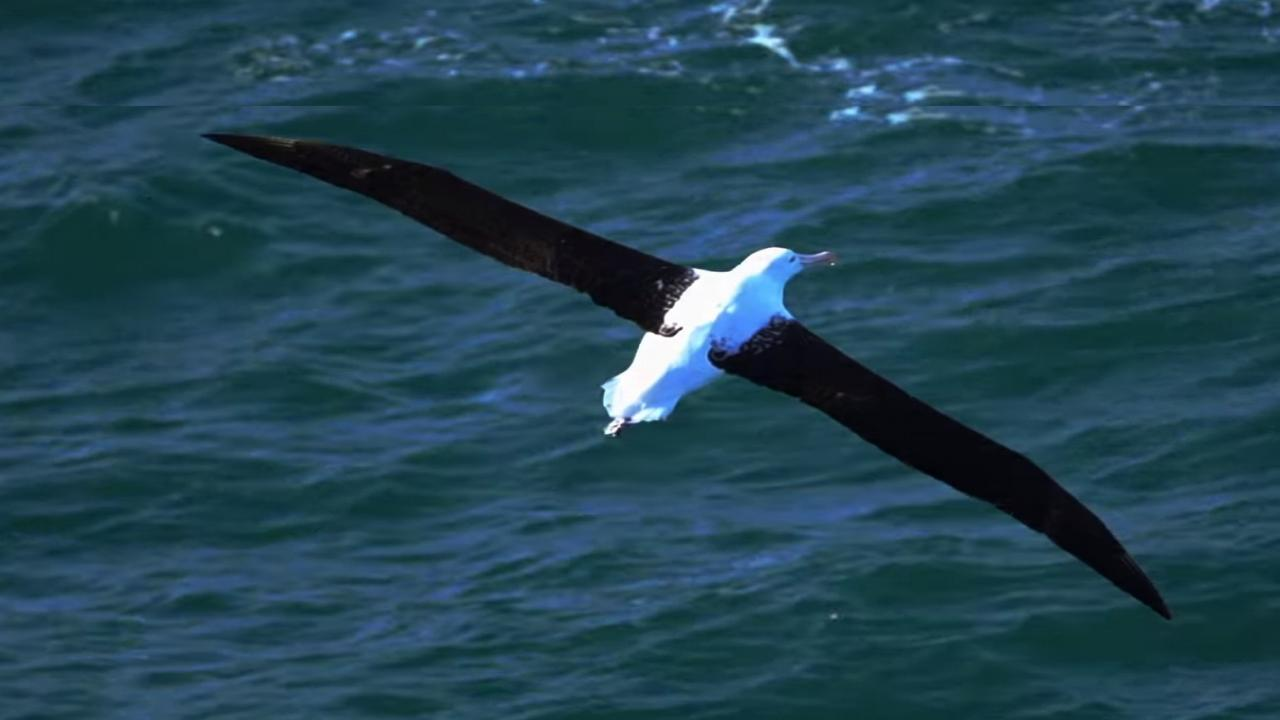Bird: (178, 113, 1192, 638)
